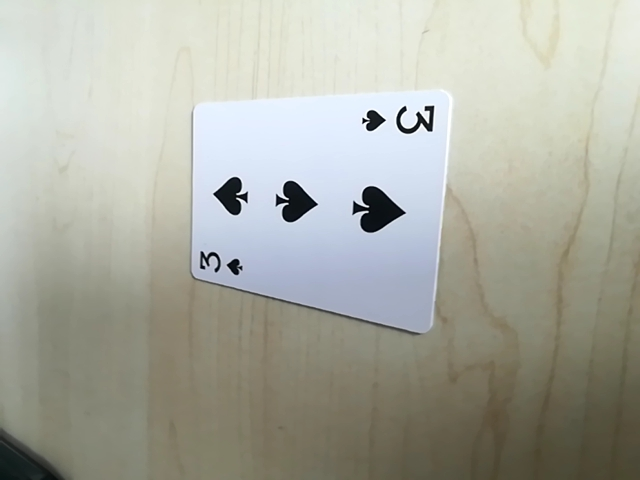ht 3: (358, 96, 438, 142), (193, 246, 248, 281)
